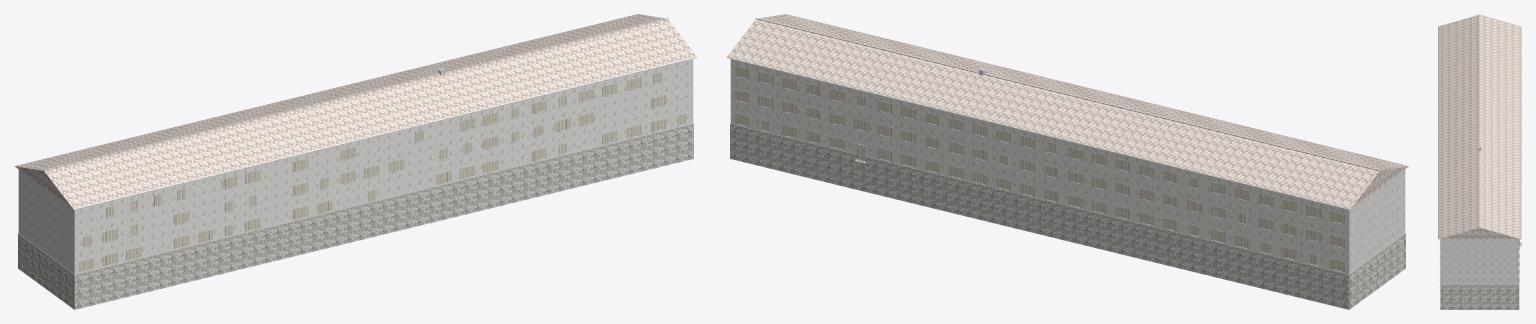
3 renders of one model, left to right at view 1: azimuth 30°, elevation 25°; view 2: azimuth 150°, elevation 25°; view 3: azimuth 270°, elevation 25°, orthographic. The views are drawn at different scales.
Visible parts, largest first — view 1: b1084716801; view 2: b1084716801; view 3: b1084716801.
Part boxes in pixels (x1,y1,x2,y2): b1084716801: (14, 14, 697, 309); b1084716801: (726, 14, 1409, 309); b1084716801: (1438, 14, 1521, 309).
Size of the model in its own units: 85.06 by 16.07 by 14.12.
Materials: 19 (19 with a texture image).
